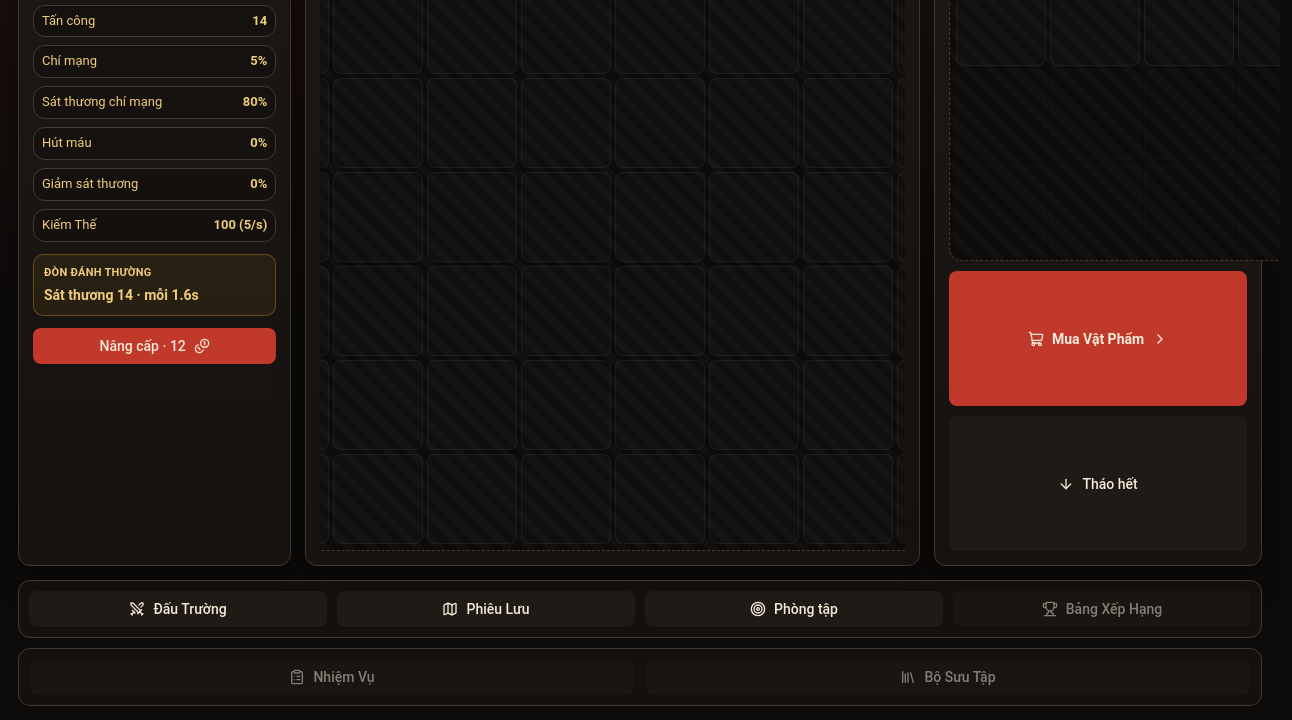
Test case: the application shell renders › starts the training room with the dummy standing still or striking back
(page scrolled)
Step 1. Click the button "Phòng tập" → [794, 609], box [645,591,943,627]
(page scrolled)
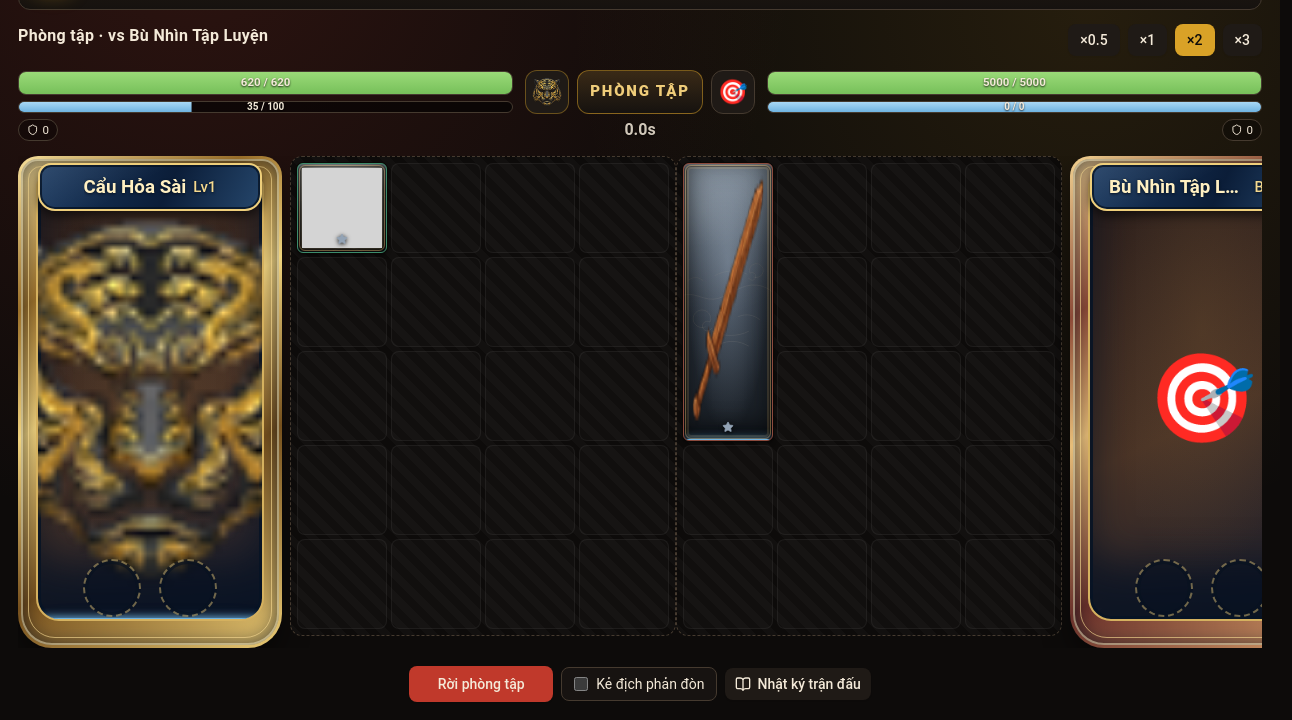
Check: the element that starts with "Phòng tập" is shown
